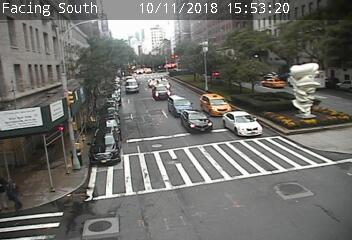car: (90, 127, 120, 165), (223, 111, 262, 138), (200, 93, 231, 117), (182, 110, 212, 134), (168, 95, 192, 117), (152, 84, 171, 100), (261, 78, 286, 88), (156, 78, 170, 91), (125, 79, 138, 92)
